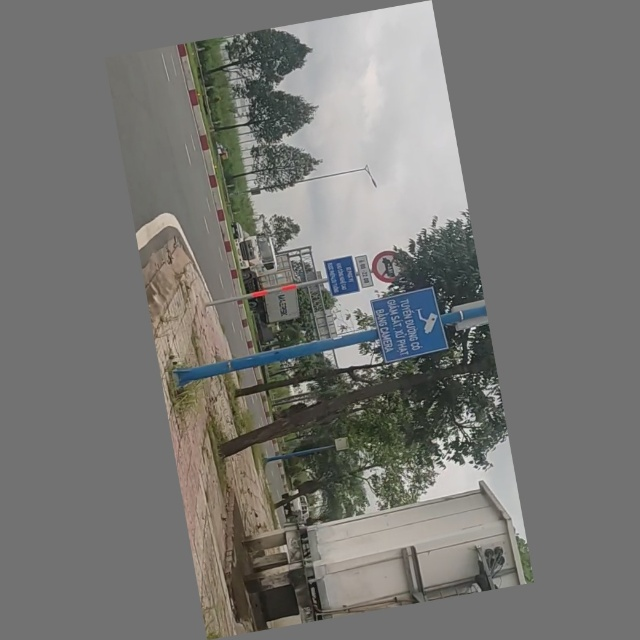Camera: (372, 286, 451, 361)
